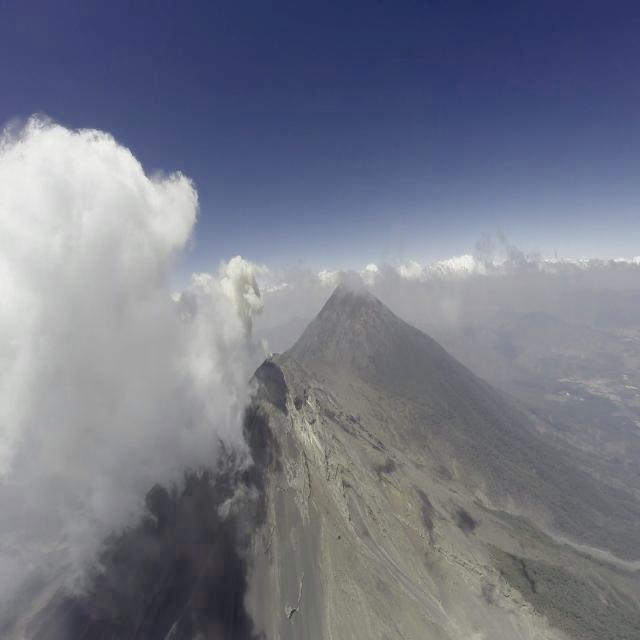Plume: (221, 252, 266, 349)
Summit: (246, 344, 346, 459)
